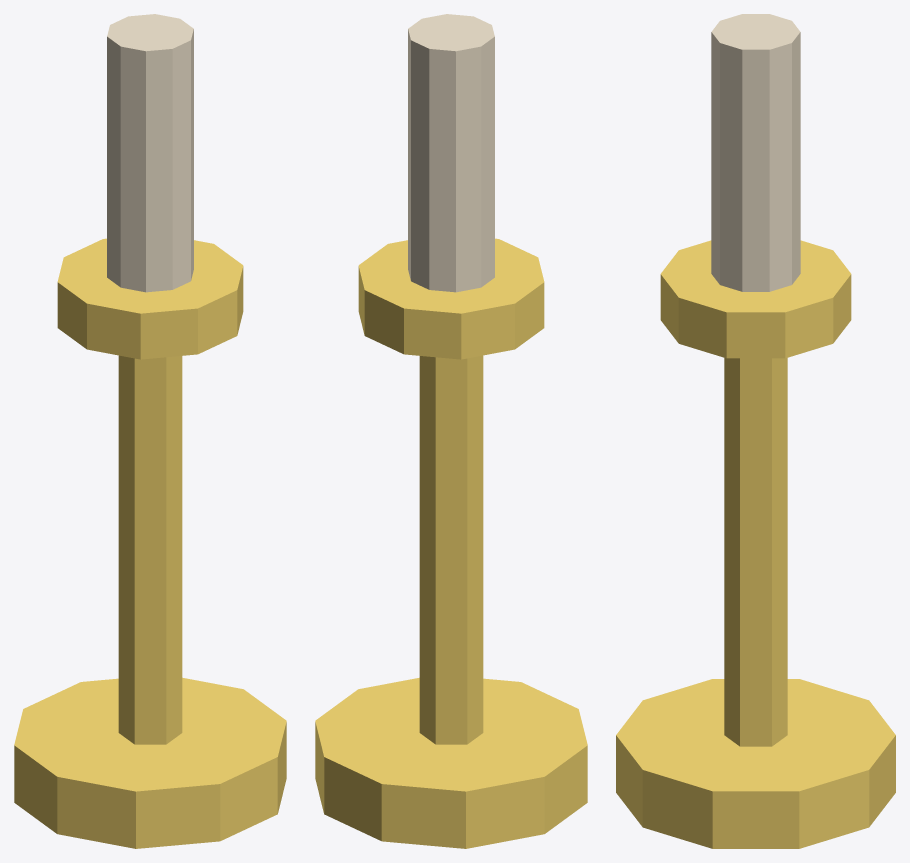
3 renders of one model, left to right at view 1: azimuth 30°, elevation 25°; view 2: azimuth 150°, elevation 25°; view 3: azimuth 270°, elevation 25°, orthographic.
Parts seen in each view (by area): view 1: Foot, Stand, Wax, Cup; view 2: Foot, Stand, Wax, Cup; view 3: Foot, Stand, Wax, Cup.
Part boxes in pixels (x1,y1,x2,y2): Foot: (14, 677, 286, 848); Stand: (118, 355, 182, 744); Wax: (107, 14, 193, 292); Cup: (57, 238, 243, 359); Foot: (315, 677, 587, 848); Stand: (419, 355, 483, 744); Wax: (408, 14, 494, 292); Cup: (358, 238, 544, 359); Foot: (616, 679, 895, 848); Stand: (724, 358, 787, 746); Wax: (711, 14, 800, 291); Cup: (660, 240, 851, 358).
Bounding box in the file's own units: 0.2092 × 0.66 × 0.22.
1 material, 1 textured.
